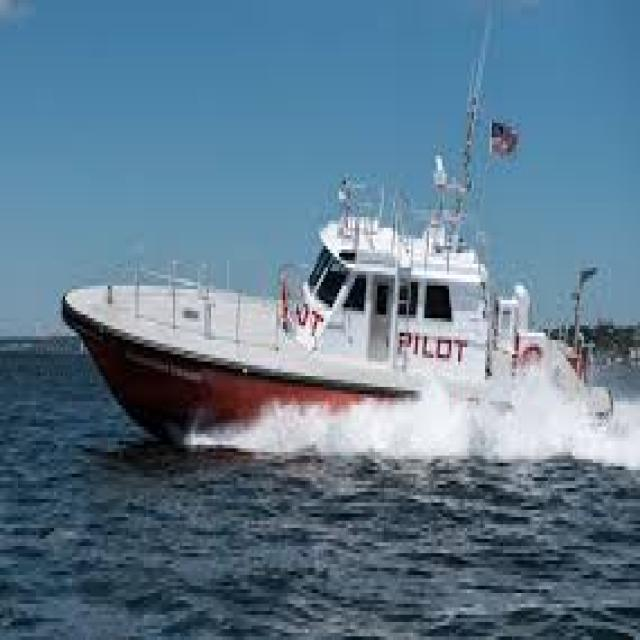houseboat: (61, 150, 614, 473)
